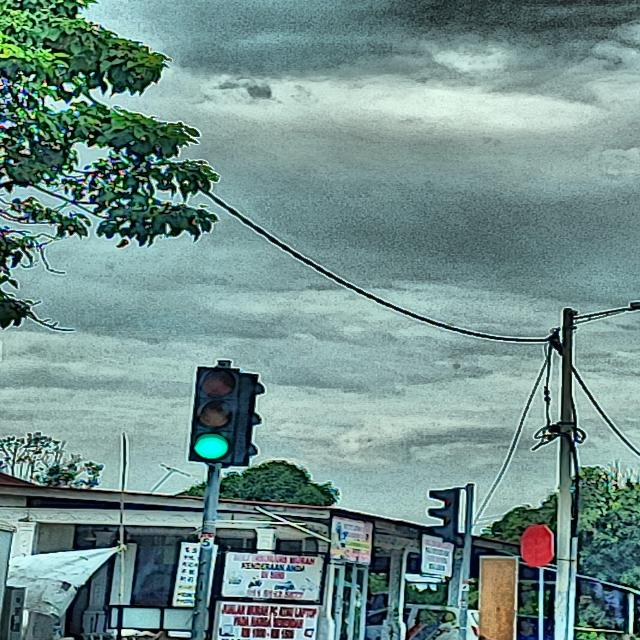green: (188, 371, 240, 462)
